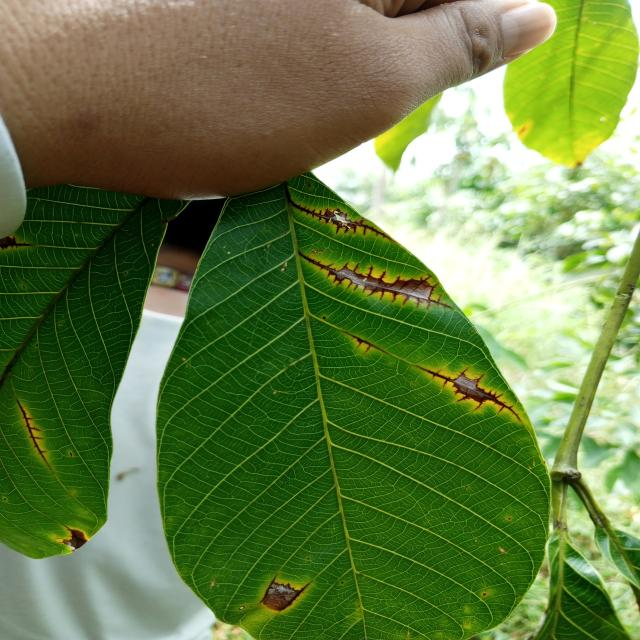Colletotrichum: (239, 605, 245, 610), (322, 316, 326, 320)
Corynespora: (298, 250, 452, 309), (416, 364, 521, 422), (289, 199, 394, 241), (15, 398, 50, 468), (279, 581, 313, 611), (344, 331, 386, 354), (260, 574, 277, 605), (0, 236, 32, 250), (61, 524, 72, 532)
Leaf-Blight: (62, 530, 88, 551)
